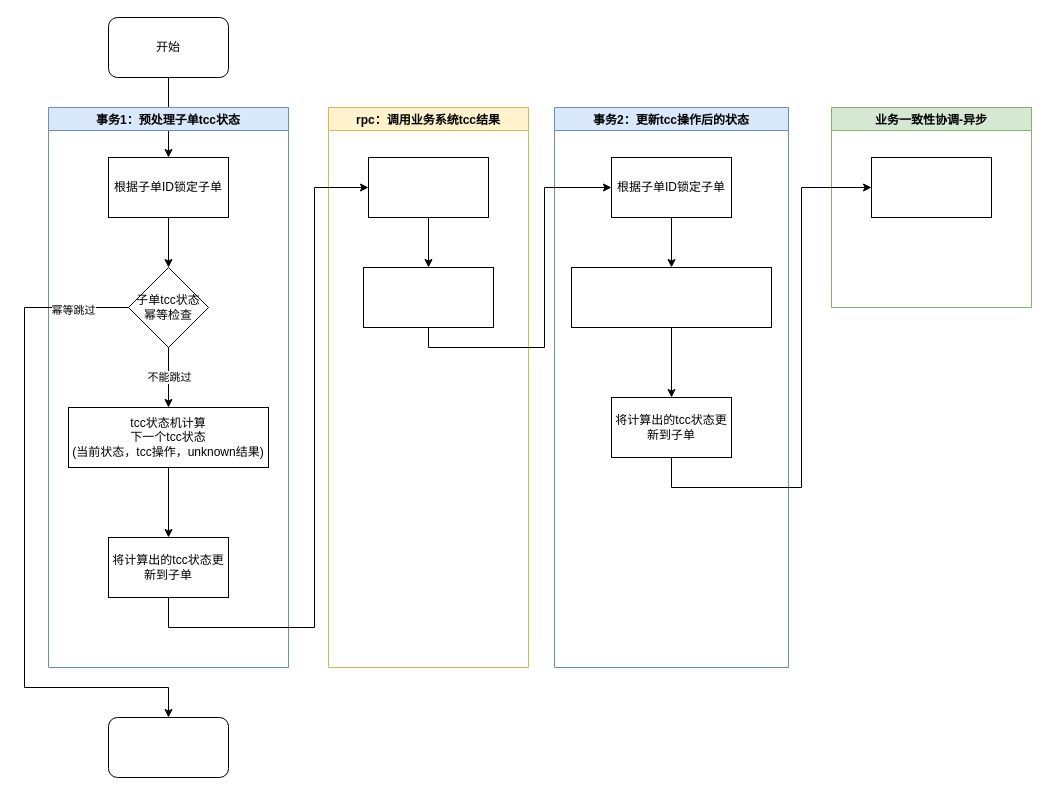
This 1049x795 diagram has some shape labels left out. The centre of each missing label's shape, as x and y in pixels:
"tcc状态机计算 下一个tcc状态 (当前状态，tcc操作，tcc操作结果)" belongs at (671,297).
"对主单发起一致性协调" belongs at (931,187).
"结束" belongs at (168,747).
"解析tcc操作结果 succes | fail | unknown" belongs at (428,297).
"调用tcc接口" belongs at (428,187).
